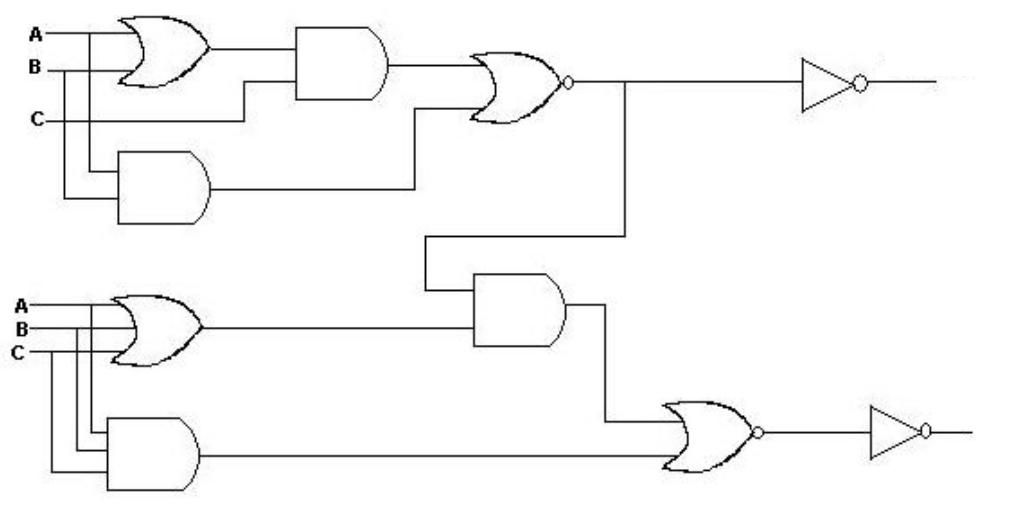and: (286, 19, 398, 114), (108, 145, 224, 232), (466, 266, 575, 355)
nor: (461, 43, 585, 132), (655, 394, 771, 480)
not: (794, 49, 878, 119), (861, 398, 939, 469)
or: (111, 9, 220, 98)
